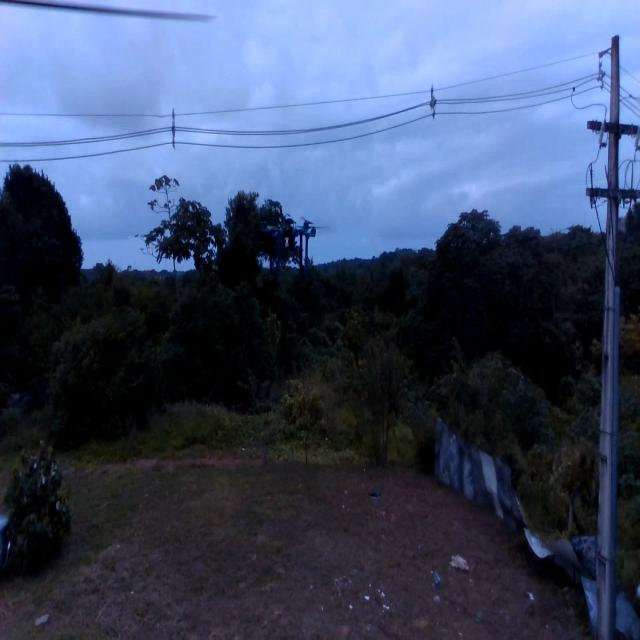-uav-: (256, 208, 329, 288)
